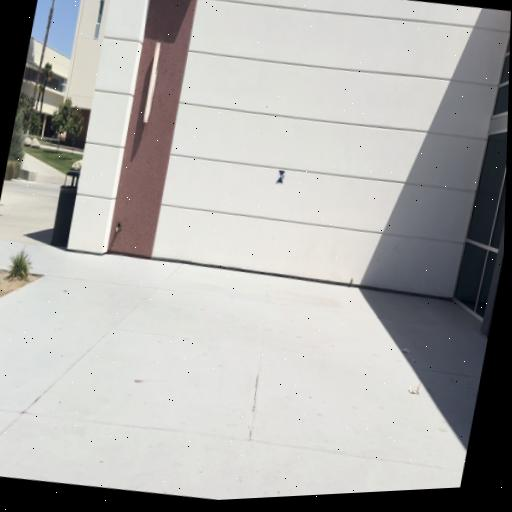target0: (275, 169, 286, 184)
